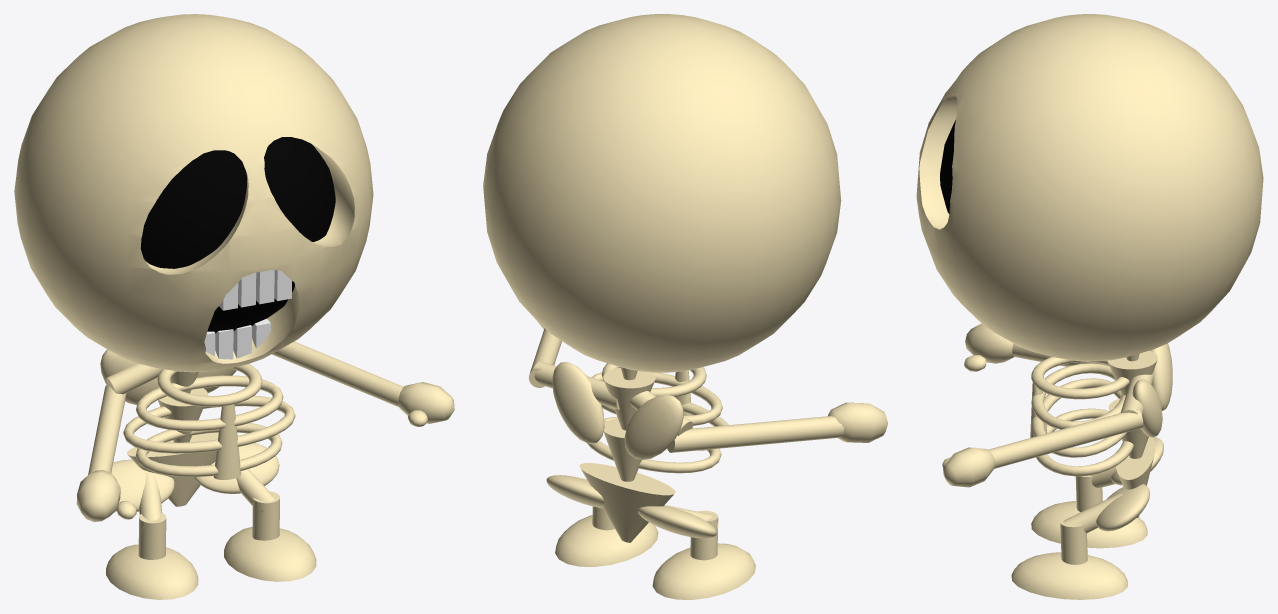
The model's file is skeleton.glb.
3 views of the same model, side by side, from view 1: azimuth 30°, elevation 25°; view 2: azimuth 150°, elevation 25°; view 3: azimuth 270°, elevation 25° (orthographic). The views are drawn at different scales.
Parts seen in each view (by area): view 1: object 37, object 36, Sphere100, Sphere98, object 17, object 31, object 19, object 20, object 23, object 24, Sphere95, object 22 (+12 smaller); view 2: object 37, Sphere98, object 24, object 23, Sphere100, object 33, object 32, Sphere95, object 6, object 21, object 20, object 18 (+6 smaller); view 3: object 37, Sphere100, object 31, Sphere98, object 20, Sphere99, object 17, object 22, object 15, object 19, Sphere95, object 23 (+9 smaller).
Boxes of the visible parts, left/top/right/bottom form: object 37: left=14, top=14, right=373, bottom=372; object 36: left=140, top=137, right=335, bottom=333; Sphere100: left=224, top=527, right=316, bottom=581; Sphere98: left=106, top=544, right=198, bottom=599; object 17: left=136, top=375, right=283, bottom=431; object 31: left=272, top=341, right=403, bottom=406; object 19: left=123, top=395, right=295, bottom=453; object 20: left=135, top=423, right=282, bottom=476; object 23: left=127, top=432, right=218, bottom=506; object 24: left=88, top=384, right=126, bottom=474; Sphere95: left=76, top=470, right=120, bottom=521; object 22: left=157, top=364, right=262, bottom=406; object 37: left=483, top=14, right=841, bottom=372; Sphere98: left=652, top=543, right=755, bottom=599; object 24: left=667, top=416, right=844, bottom=452; object 23: left=579, top=463, right=675, bottom=542; Sphere100: left=555, top=515, right=658, bottom=566; object 33: left=552, top=361, right=604, bottom=443; object 32: left=624, top=394, right=683, bottom=459; Sphere95: left=828, top=402, right=887, bottom=442; object 6: left=638, top=506, right=716, bottom=538; object 21: left=603, top=368, right=655, bottom=430; object 20: left=586, top=417, right=721, bottom=473; object 18: left=603, top=418, right=641, bottom=481; object 37: left=916, top=14, right=1263, bottom=361; Sphere100: left=1011, top=552, right=1127, bottom=599; object 31: left=988, top=409, right=1143, bottom=468; Sphere98: left=1031, top=501, right=1147, bottom=548; object 20: left=1036, top=408, right=1133, bottom=476; Sphere99: left=943, top=447, right=995, bottom=487; object 17: left=1031, top=363, right=1125, bottom=429; object 22: left=1031, top=356, right=1129, bottom=399; object 15: left=1096, top=484, right=1149, bottom=531; object 19: left=1031, top=378, right=1127, bottom=457; Sphere95: left=965, top=323, right=1013, bottom=363; object 23: left=1116, top=437, right=1155, bottom=517.
Size of the model in its own units: 3.3 by 4.72 by 2.85.
